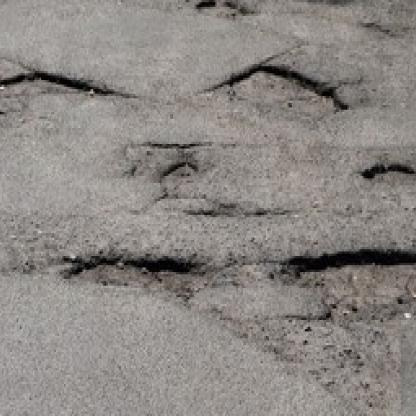pothole: (284, 244, 416, 311), (66, 251, 214, 304), (230, 64, 349, 119), (0, 68, 116, 103), (158, 160, 199, 192), (362, 162, 416, 185), (194, 0, 255, 18)
